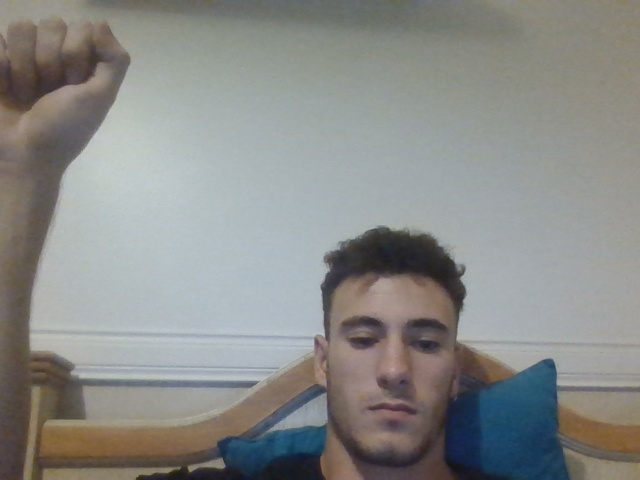Stop: (4, 16, 133, 157)
